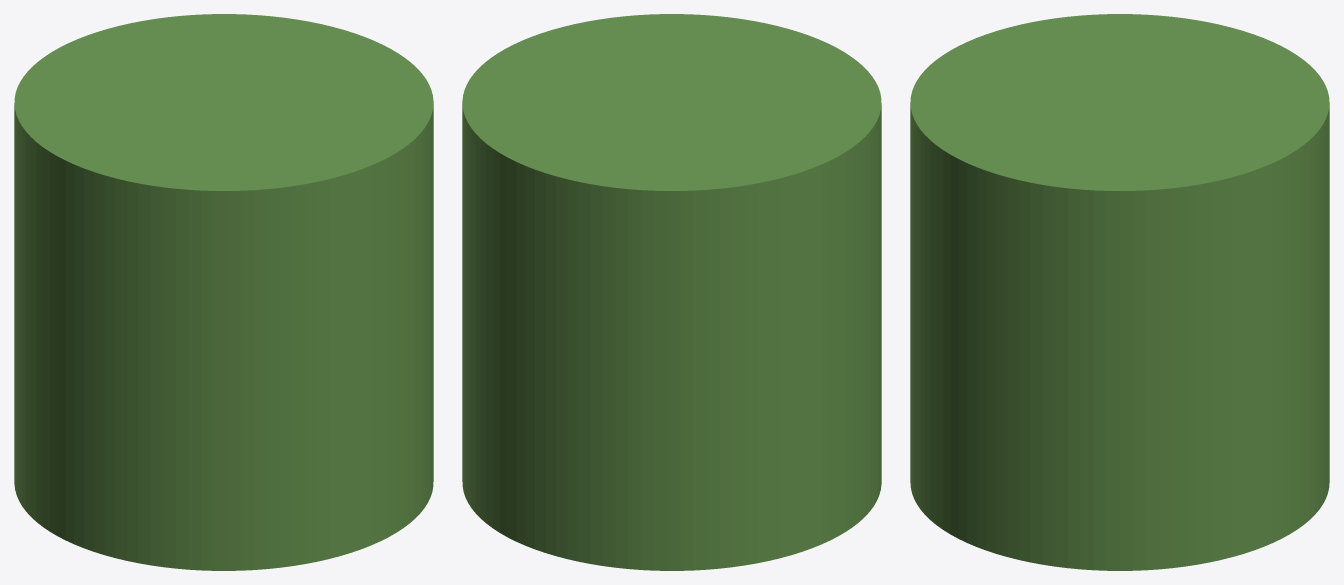
The model's file is CylinderG.fbx.
The picture shows the model from 3 angles, left to right: view 1: azimuth 30°, elevation 25°; view 2: azimuth 150°, elevation 25°; view 3: azimuth 270°, elevation 25°; orthographic projection.
Parts seen in each view (by area): view 1: CylinderG; view 2: CylinderG; view 3: CylinderG.
Part boxes in pixels (x1=…): CylinderG: x1=14, y1=14, x2=433, y2=570; CylinderG: x1=462, y1=14, x2=881, y2=570; CylinderG: x1=910, y1=14, x2=1329, y2=570.
Bounding box in the file's own units: 600 × 600 × 600.
